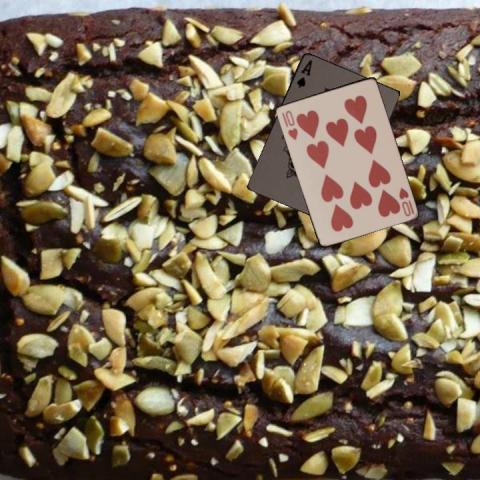10h: (278, 108, 299, 142), (396, 184, 416, 217)
As: (294, 56, 314, 89)
